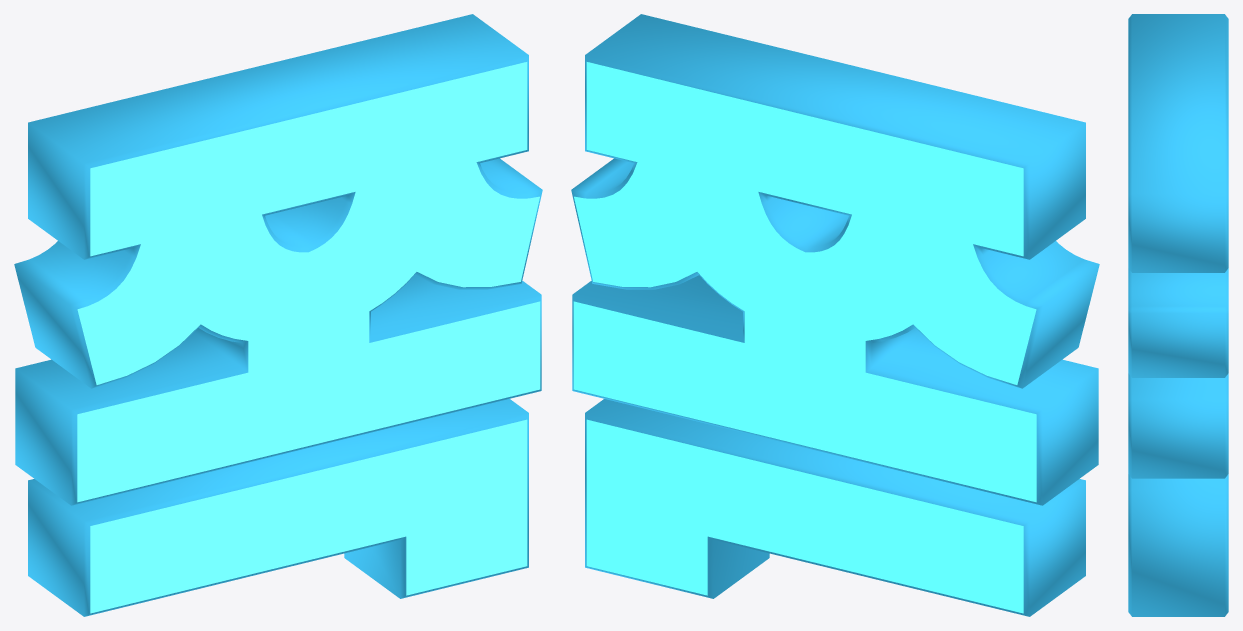
Rendered from u_cabd_b.glb.
3 renders of one model, left to right at view 1: azimuth 30°, elevation 25°; view 2: azimuth 150°, elevation 25°; view 3: azimuth 270°, elevation 25°, orthographic. The views are drawn at different scales.
Parts seen in each view (by area): view 1: glyph; view 2: glyph; view 3: glyph.
Boxes of the visible parts, <box> form: glyph: <box>14,14,542,616</box>; glyph: <box>571,14,1099,616</box>; glyph: <box>1128,14,1228,616</box>.
Size of the model in its own units: 0.0729 by 0.0756 by 0.0162.
